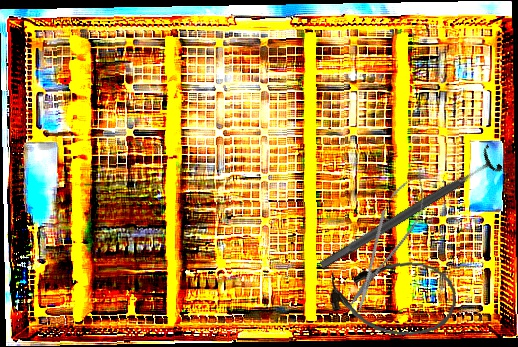Cannula: (327, 255, 459, 340)
Fixation Ring: (313, 143, 504, 279)
Micro Scissor: (337, 166, 437, 318)
